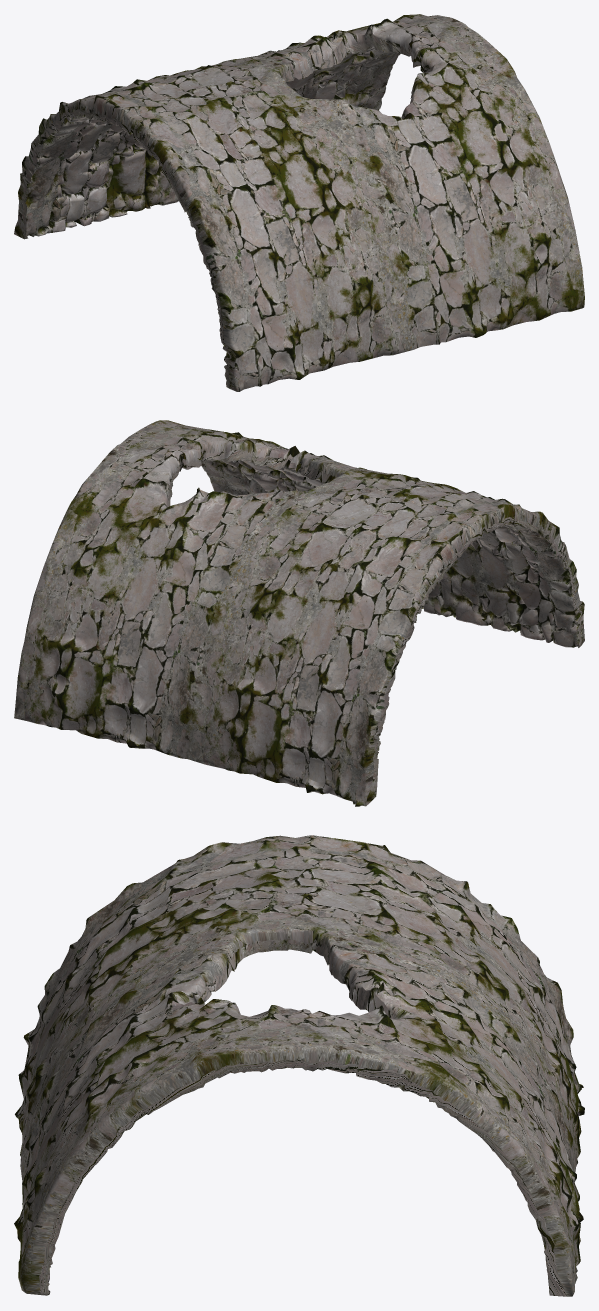
Rendered from SM_Arch_B.fbx.
3 views of the same model, one above another, from view 1: azimuth 30°, elevation 25°; view 2: azimuth 150°, elevation 25°; view 3: azimuth 270°, elevation 25° (orthographic). The views are drawn at different scales.
Visible parts, largest first — view 1: SM_Arch_B_LOD0; view 2: SM_Arch_B_LOD0; view 3: SM_Arch_B_LOD0.
Part boxes in pixels (<box>): SM_Arch_B_LOD0: <box>14,14,584,391</box>; SM_Arch_B_LOD0: <box>14,420,584,806</box>; SM_Arch_B_LOD0: <box>14,835,584,1296</box>.
Size of the model in its own units: 1157 by 1297 by 642.
